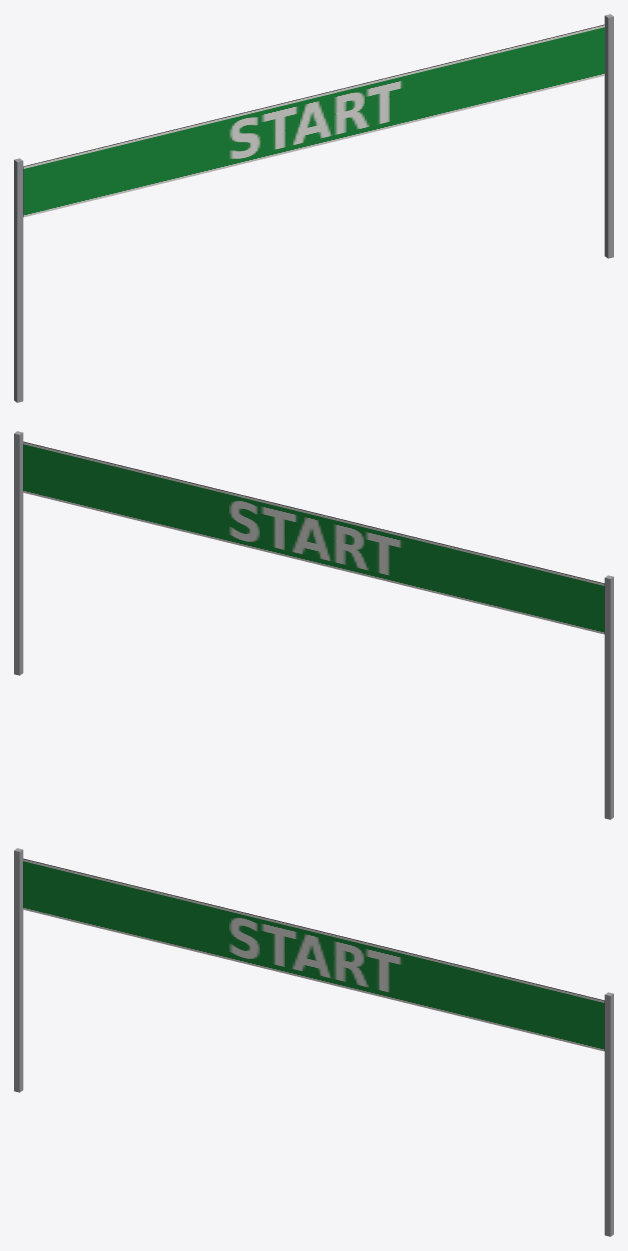
File: banner_start.dae
3 renders of one model, top to bottom at view 1: azimuth 30°, elevation 25°; view 2: azimuth 150°, elevation 25°; view 3: azimuth 330°, elevation 25°, orthographic.
Visible parts, largest first — view 1: marker; view 2: marker; view 3: marker.
Boxes of the visible parts, x1=… form: marker: x1=14, y1=14, x2=613, y2=402; marker: x1=14, y1=431, x2=613, y2=819; marker: x1=14, y1=848, x2=613, y2=1236.
Bounding box in the file's own units: 12.32 × 0.12 × 4.75.
Materials: 1 (1 with a texture image).
